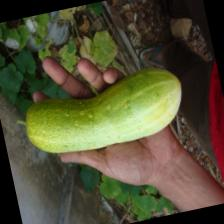cucumber: (16, 60, 189, 162)
